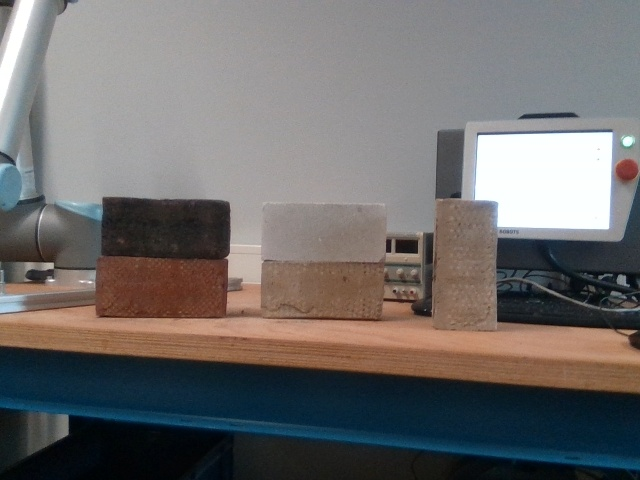brick: (98, 261, 225, 315), (264, 205, 382, 260), (441, 203, 493, 327), (104, 200, 224, 253), (265, 265, 378, 315)
